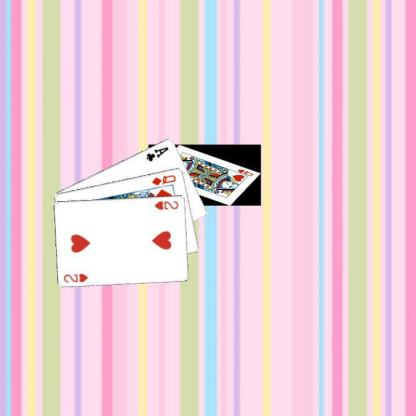2H: (61, 270, 90, 284), (152, 198, 180, 211)
AC: (144, 144, 170, 162)
QD: (149, 172, 177, 186)
